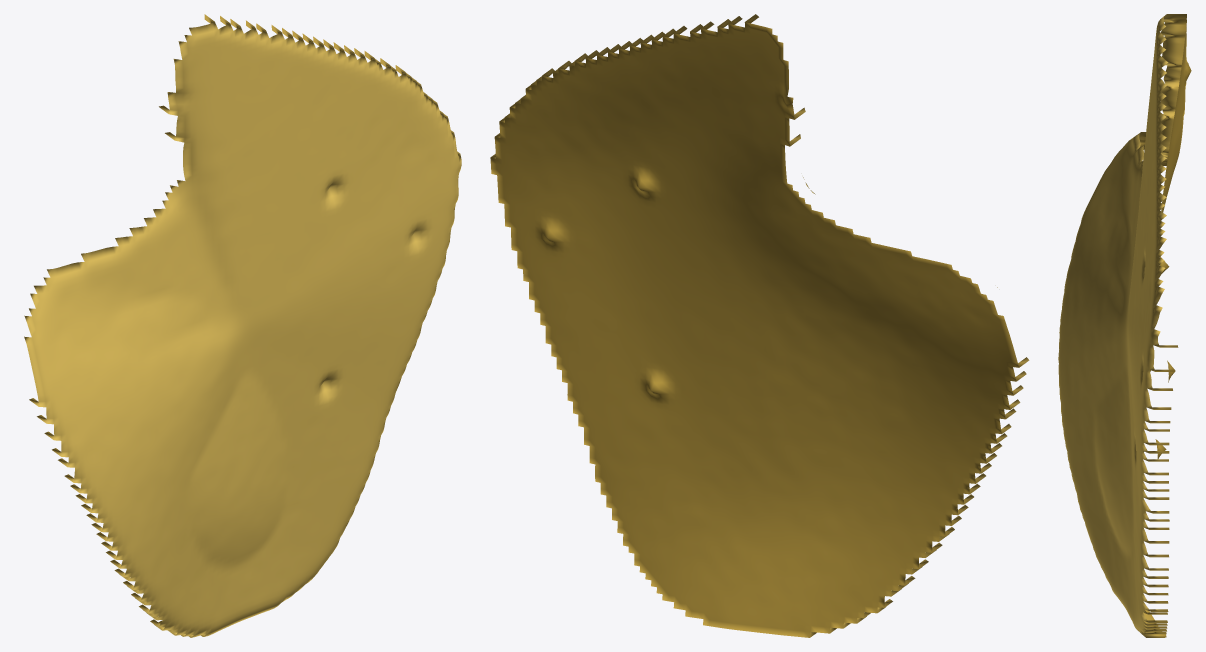
Rendered from PAIR-DANCERS-PAD_RIGHT_addon.glb.
The picture shows the model from 3 angles, left to right: view 1: azimuth 30°, elevation 25°; view 2: azimuth 150°, elevation 25°; view 3: azimuth 270°, elevation 25°; orthographic projection. The views are drawn at different scales.
Parts seen in each view (by area): view 1: geometry_0; view 2: geometry_0; view 3: geometry_0.
Boxes of the visible parts, bbox=[...] form: geometry_0: bbox=[24, 14, 461, 637]; geometry_0: bbox=[490, 14, 1029, 637]; geometry_0: bbox=[1058, 14, 1191, 637].
Bounding box in the file's own units: 89 × 109 × 22.53.
